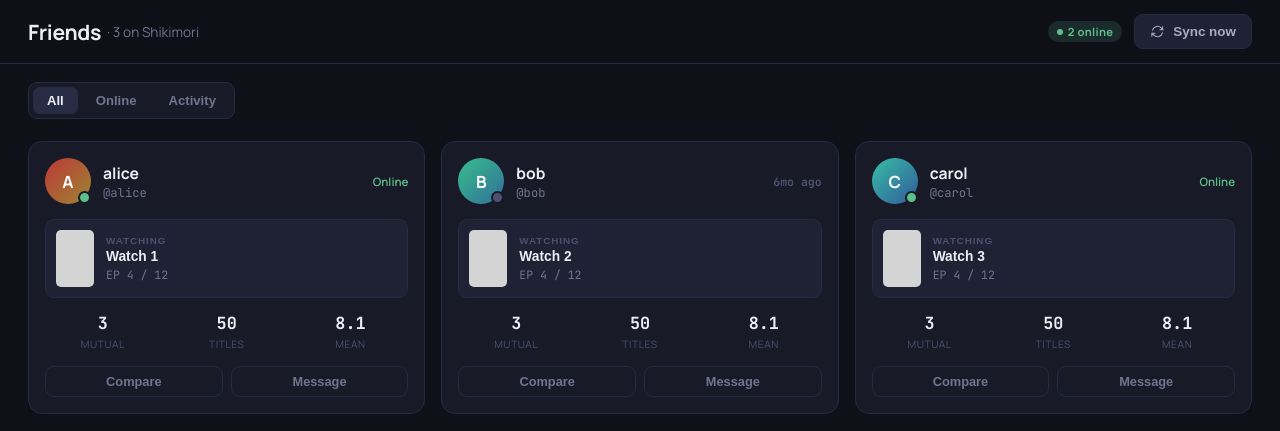
Test case: FriendsView › Online tab filters to online friends only
Click the button "Online" at (116, 100), box x1=82 y1=87 x2=151 y2=114
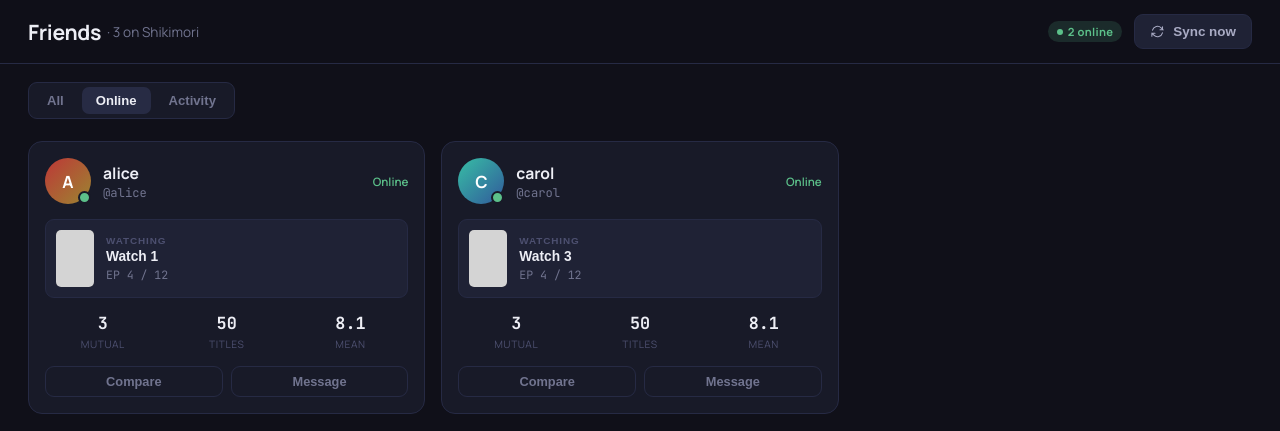
Expected: the elements with class "fc-name" read "alice", "carol", in this order, x1=103 y1=162 x2=139 y2=184; x1=516 y1=162 x2=554 y2=184
